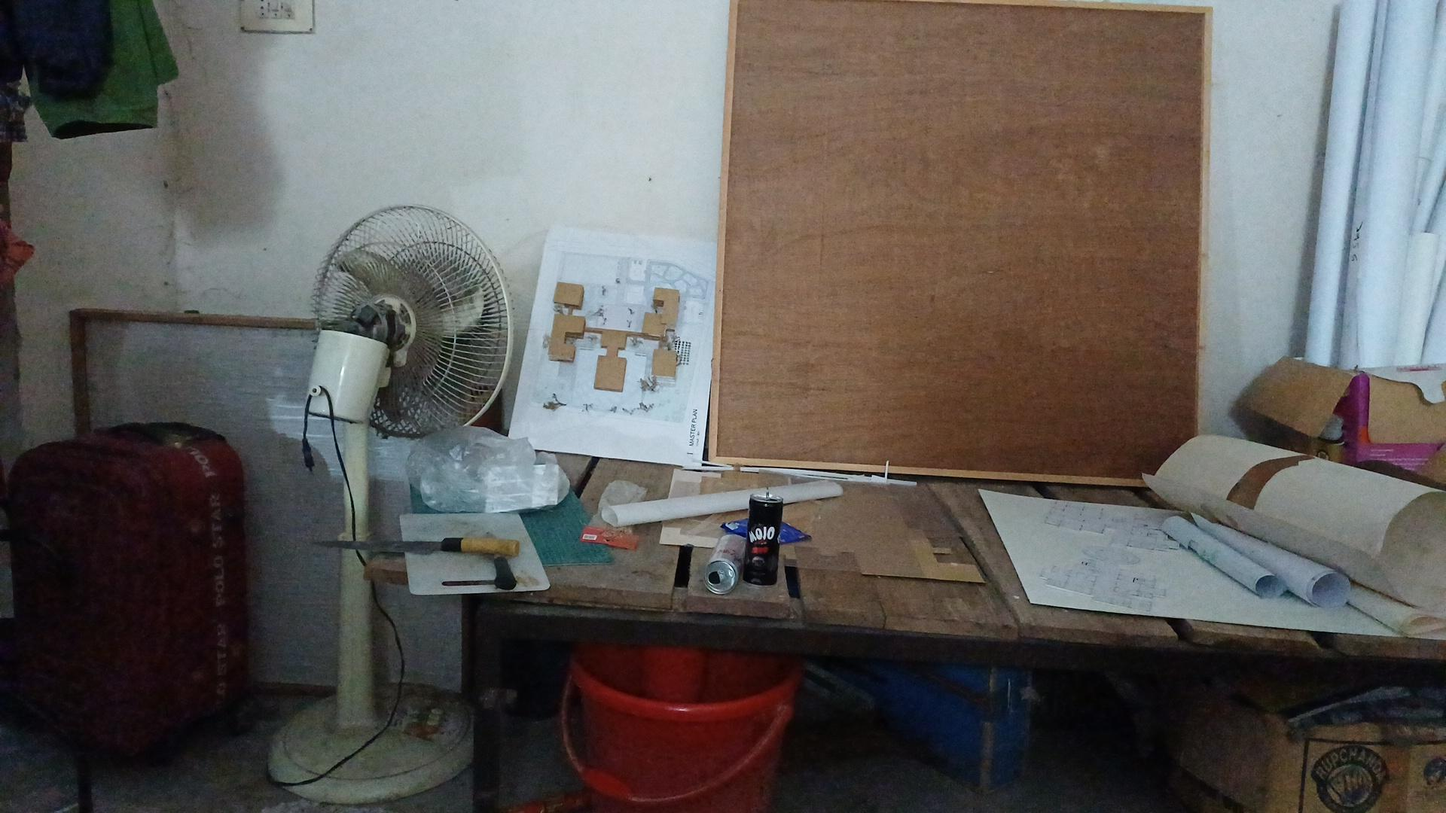Bottle: (736, 485, 813, 588), (708, 525, 744, 596)
Box: (1119, 640, 1446, 810)
Bucket: (529, 621, 800, 795)
Fan: (259, 199, 509, 593)
Knife: (309, 529, 547, 600)
Photo: (524, 216, 714, 473)
